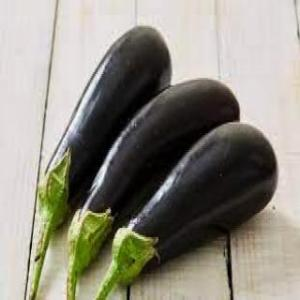eggplant: (71, 78, 239, 248), (114, 122, 278, 284), (42, 26, 170, 212)
